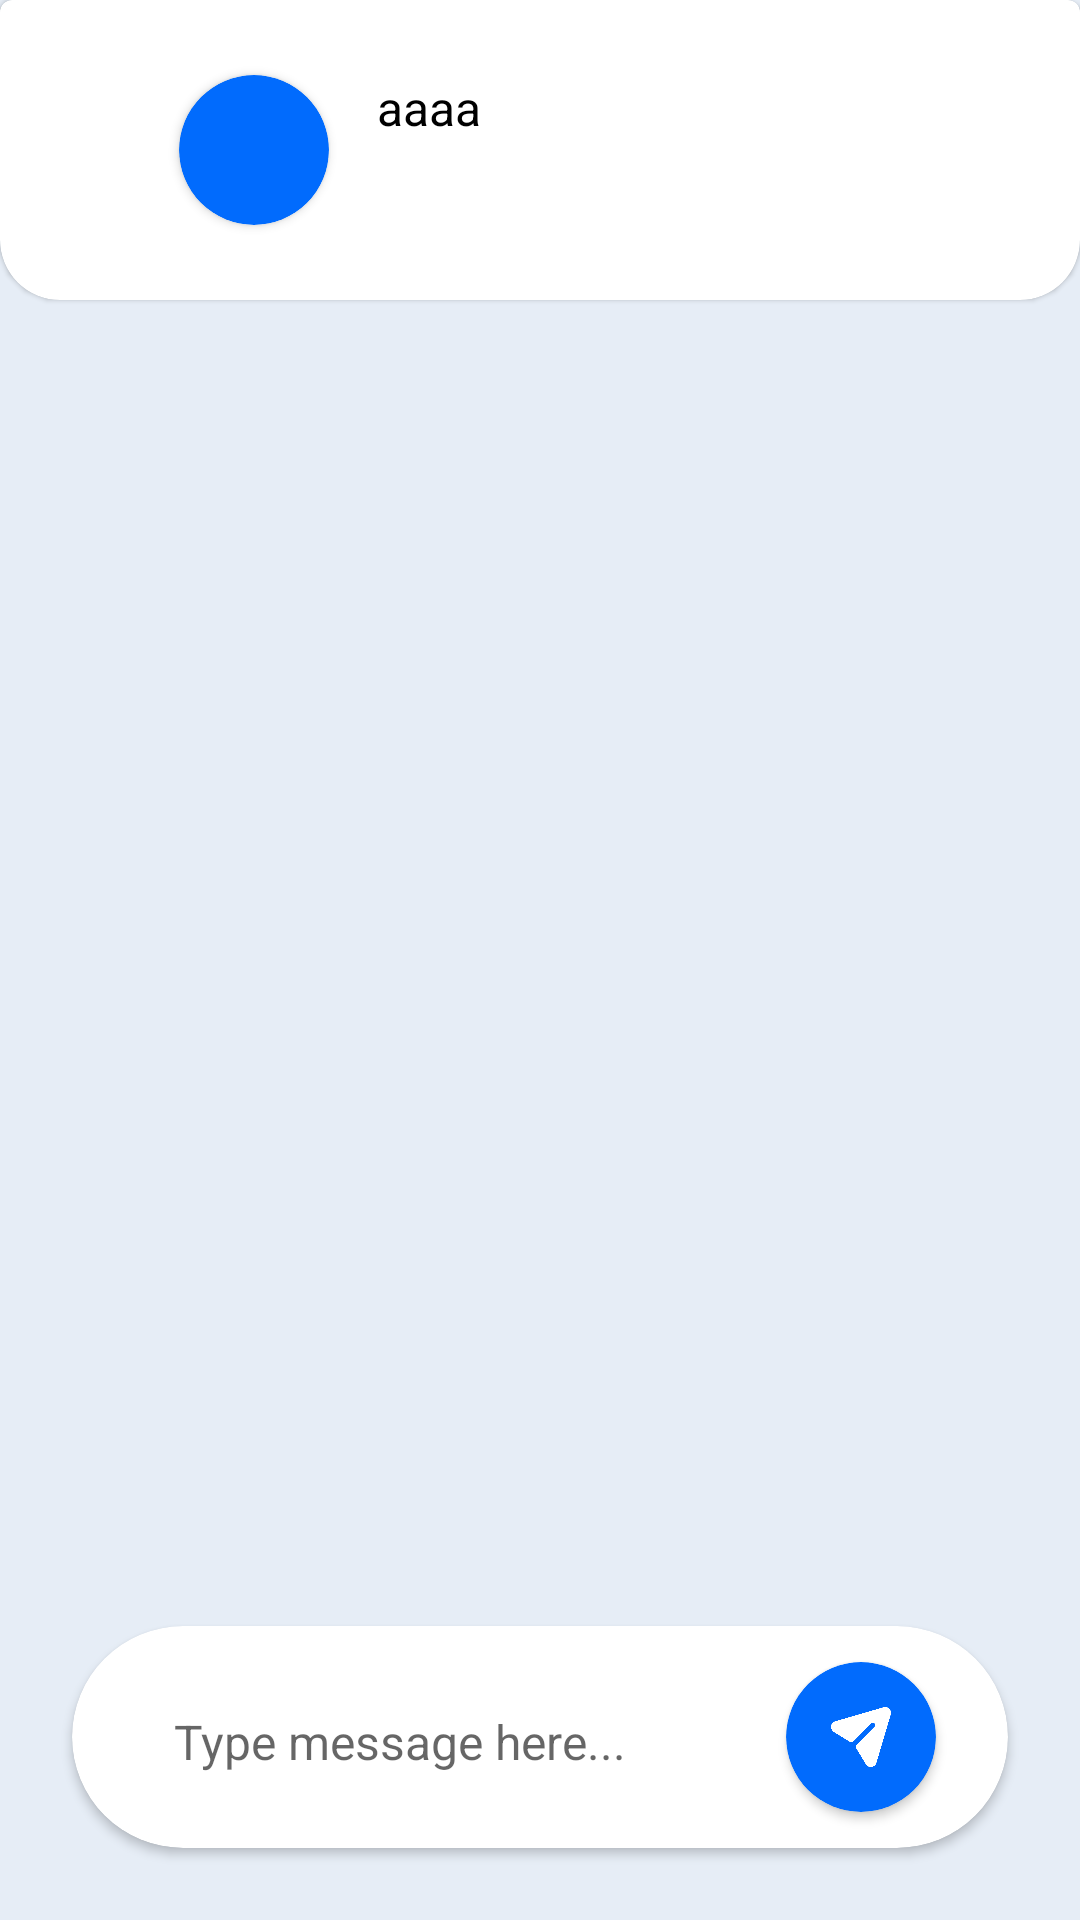

Named icons in this screenshot (1080 × 1920) and their bounding boxes, rect(x1, y1, x2, y2):
send message: rect(831, 1707, 891, 1767)
